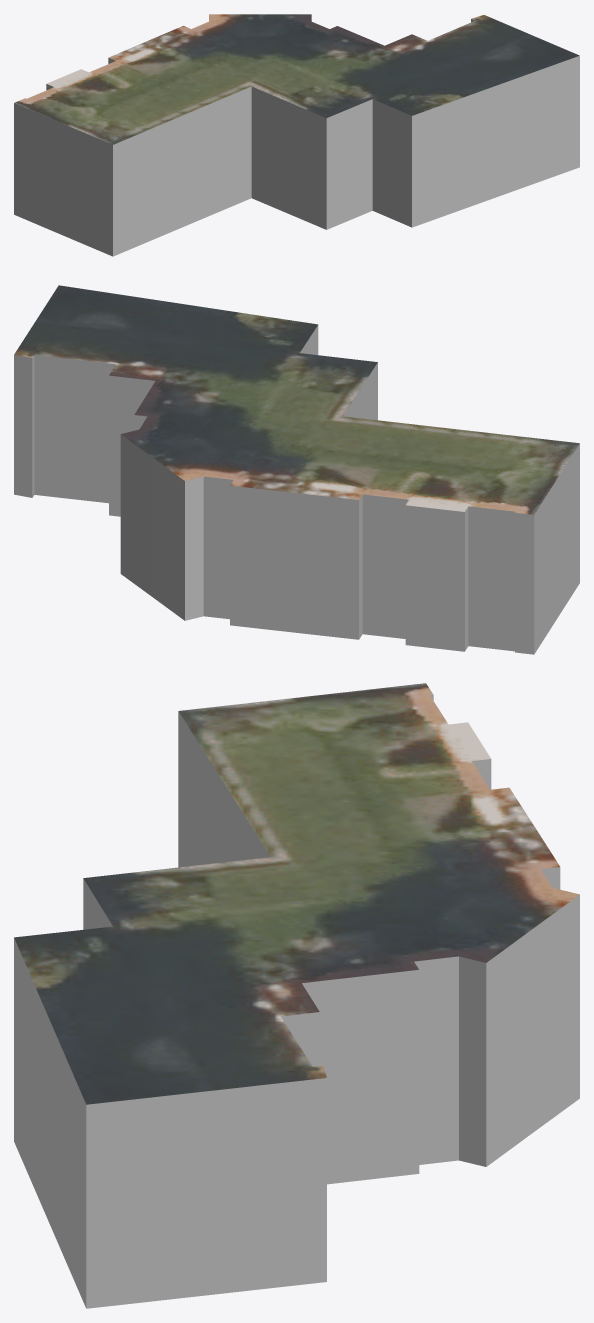
Rendered from DEBW_0010007TvkQ.gltf.
3 renders of one model, top to bottom at view 1: azimuth 30°, elevation 25°; view 2: azimuth 150°, elevation 25°; view 3: azimuth 270°, elevation 25°, orthographic. The views are drawn at different scales.
Parts seen in each view (by area): view 1: Z_UP; view 2: Z_UP; view 3: Z_UP.
Part boxes in pixels (x1,y1,x2,y2): Z_UP: (14,14,579,256); Z_UP: (14,285,579,654); Z_UP: (14,683,579,1308).
Size of the model in its own units: 49.51 by 11.18 by 28.09.
2 materials, 1 textured.
